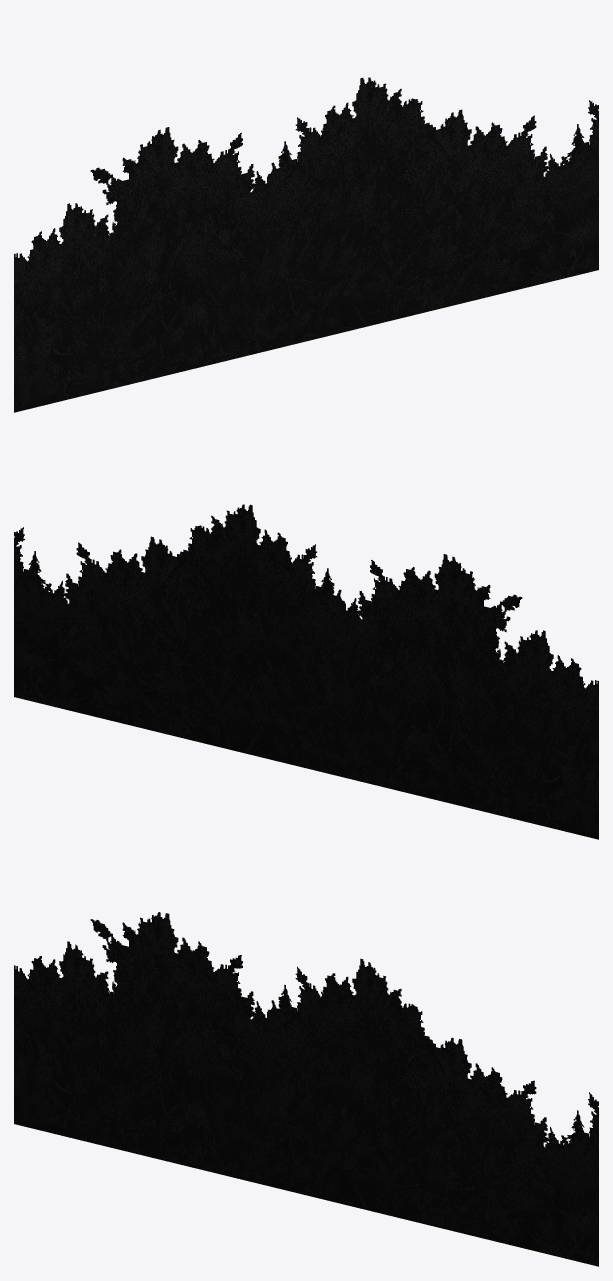
Rendered from SM_EC_TreeLine_5.fbx.
3 views of the same model, one above another, from view 1: azimuth 30°, elevation 25°; view 2: azimuth 150°, elevation 25°; view 3: azimuth 330°, elevation 25° (orthographic).
Visible parts, largest first — view 1: SM_EC_TreeLine_5; view 2: SM_EC_TreeLine_5; view 3: SM_EC_TreeLine_5.
Boxes of the visible parts, left/top/right/bottom form: SM_EC_TreeLine_5: left=14, top=77, right=598, bottom=412; SM_EC_TreeLine_5: left=14, top=504, right=598, bottom=839; SM_EC_TreeLine_5: left=14, top=912, right=598, bottom=1266.
Size of the model in its own units: 15 by 9.5e-07 by 6.27.
